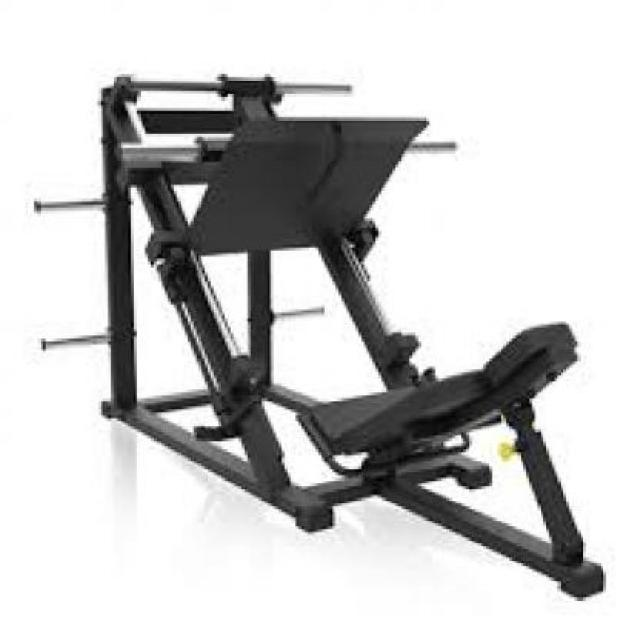leg press: (23, 58, 640, 617)
